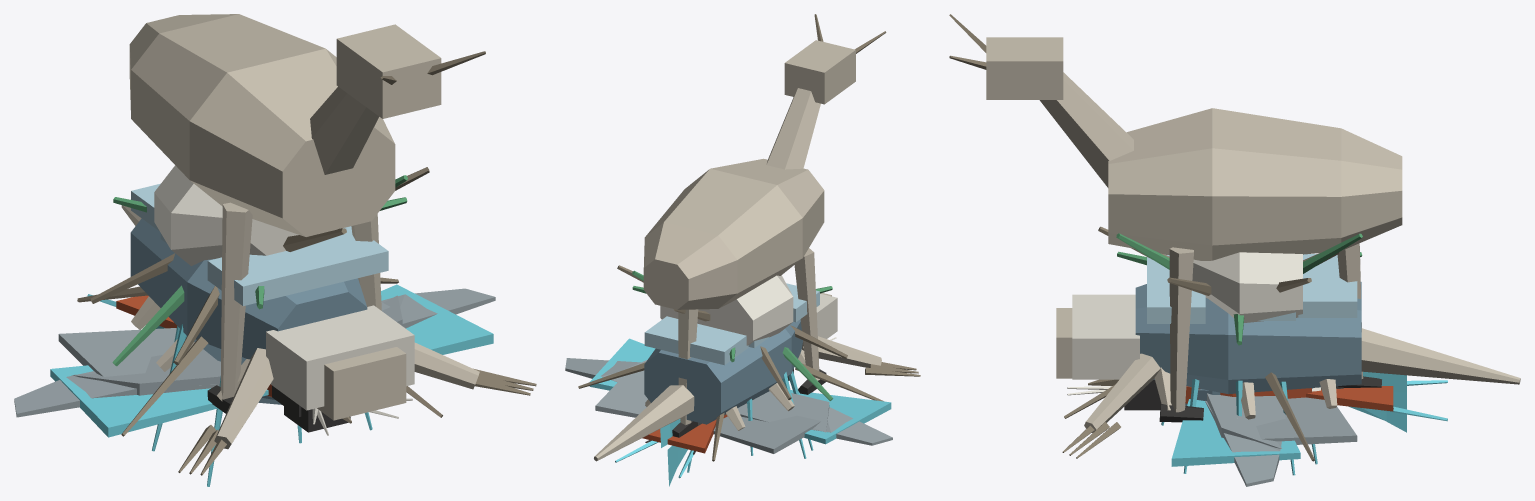
File: creature-variants.glb
The picture shows the model from 3 angles, left to right: view 1: azimuth 30°, elevation 25°; view 2: azimuth 150°, elevation 25°; view 3: azimuth 270°, elevation 25°; orthographic projection. The views are drawn at different scales.
Visible parts, largest first — view 1: drifter-body, burrower-body, shovel-head, head, armor-plate-0, lace-bell, skink-head, stilt-0, moth-wing--1-0, neck, moth-wing--1-1, moth-wing-+1-0 (+13 smaller); view 2: drifter-body, burrower-body, lace-bell, head, armor-plate-2, neck, skink-tail, moth-wing--1-1, wren-wing--1, stilt-0, moth-wing--1-0, moth-wing-+1-1 (+14 smaller); view 3: drifter-body, burrower-body, lace-bell, shovel-head, head, neck, skink-tail, stilt-1, moth-wing-+1-0, moth-wing-+1-1, armor-plate-2, wren-wing-+1 (+9 smaller).
Boxes of the visible parts, x1,y1,x2,y2 form: drifter-body: (129,14,395,236); burrower-body: (130,218,367,364); shovel-head: (266,305,414,410); head: (336,24,441,118); armor-plate-0: (207,226,388,306); lace-bell: (154,165,298,265); skink-head: (317,347,406,420); stilt-0: (220,202,252,399); moth-wing--1-0: (50,365,268,437); neck: (310,86,378,174); moth-wing--1-1: (58,328,176,376); moth-wing-+1-0: (381,284,493,354); drifter-body: (643,158,824,309); burrower-body: (644,319,802,424); lace-bell: (660,275,793,345); head: (784,40,855,104); armor-plate-2: (644,316,748,365); neck: (766,88,820,169); skink-tail: (594,385,694,461); moth-wing--1-1: (713,415,820,453); wren-wing--1: (737,391,829,432); stilt-0: (794,248,819,370); moth-wing--1-0: (790,390,891,444); moth-wing-+1-1: (595,374,647,417); drifter-body: (1108,108,1402,260); burrower-body: (1135,282,1361,394); lace-bell: (1192,252,1302,322); shovel-head: (1072,294,1139,379); head: (986,37,1063,99); neck: (1039,72,1133,187); skink-tail: (1361,328,1520,384); stilt-1: (1169,247,1193,412); moth-wing-+1-0: (1171,399,1300,466); moth-wing-+1-1: (1256,397,1357,444); armor-plate-2: (1298,254,1357,317); wren-wing-+1: (1207,393,1285,448).
Bounding box in the file's own units: 2.04 × 2.06 × 2.53.
